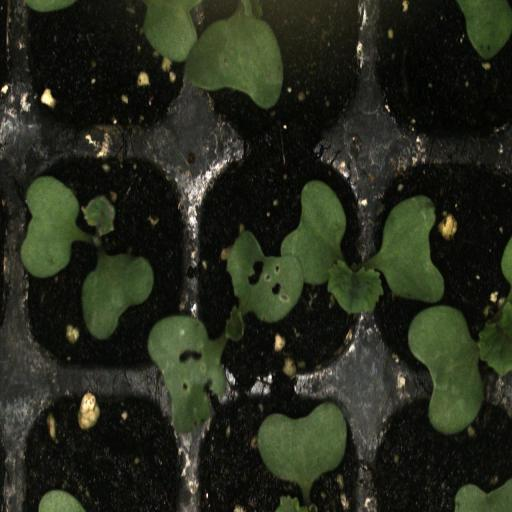Folha: (141, 0, 284, 110), (19, 176, 114, 278), (256, 401, 347, 492), (82, 254, 154, 340), (457, 0, 512, 59), (454, 478, 512, 512)
Germinacao: (11, 136, 194, 384), (192, 139, 371, 389), (374, 140, 512, 388)
